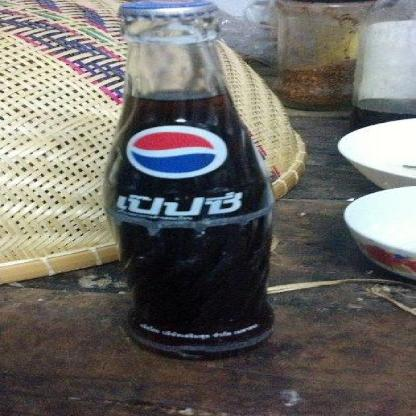Can: (100, 0, 279, 361)
